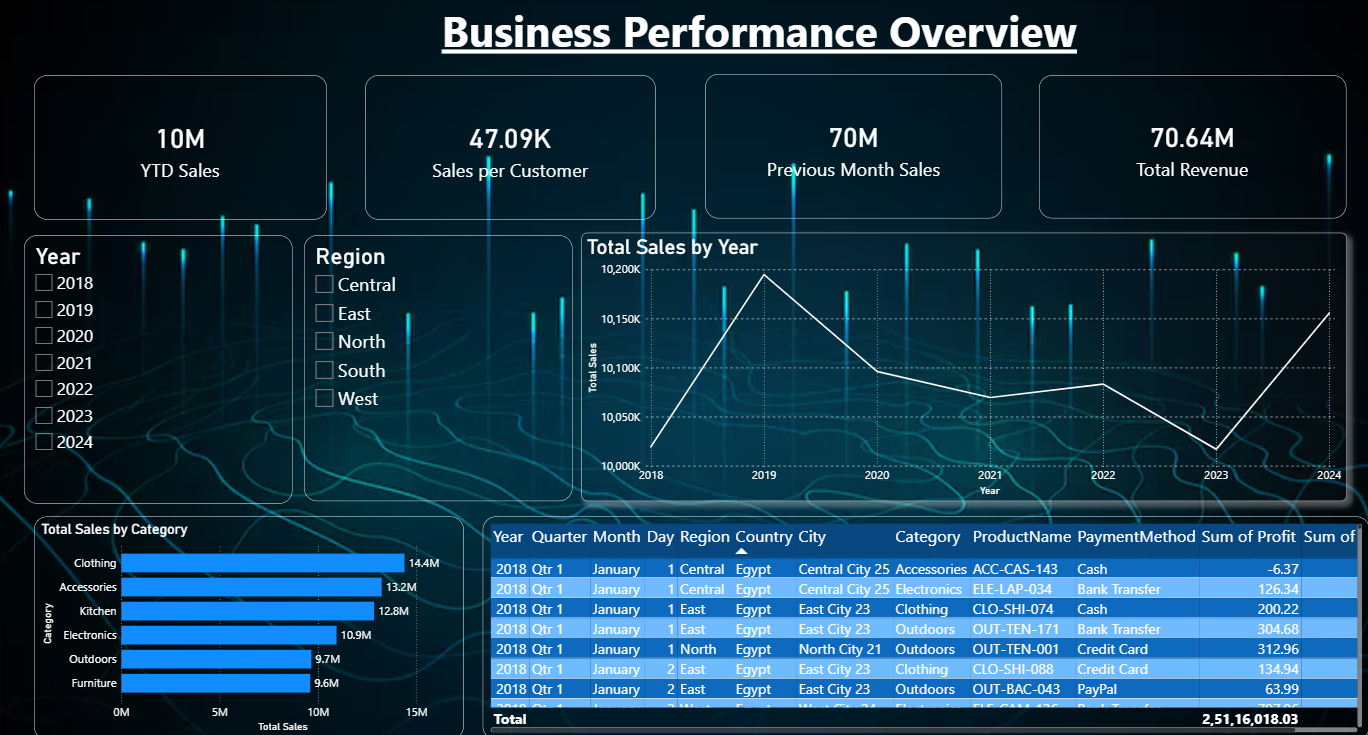

The dashboard page shown, as its layout file describes it:
{"tool":"powerbi","page":{"name":"Page 1","canvas":[2600,1400],"ordinal":0},"visuals":[{"type":"card","fields":{"Values":["DimCustomer.Total Revenue"]},"box":[1975.6,143.9,580.5,270.7],"z":0},{"type":"card","fields":{"Values":["DimCustomer.Previous Month Sales"]},"box":[1343.9,141.5,561,273.2],"z":1000},{"type":"card","fields":{"Values":["DimCustomer.Sales per Customer"]},"box":[702.4,143.9,548.8,273.2],"z":2000},{"type":"textbox","box":[839.8,0,1252.6,143.2],"z":3000},{"type":"slicer","fields":{"Values":["DimDate.Year"]},"box":[56.1,446.3,507.3,507.3],"z":4000},{"type":"card","fields":{"Values":["DimCustomer.YTD Sales"]},"box":[75.6,143.9,553.7,273.2],"z":5000},{"type":"lineChart","fields":{"Category":["DimDate.Date.Variation.Date Hierarchy.Year","DimDate.Date.Variation.Date Hierarchy.Quarter","DimDate.Date.Variation.Date Hierarchy.Month","DimDate.Date.Variation.Date Hierarchy.Day"],"Y":["DimCustomer.Total Sales"]},"box":[1109.8,441.5,1446.3,507.3],"z":6000},{"type":"clusteredBarChart","fields":{"Category":["DimProduct.Category"],"Y":["DimCustomer.Total Sales"]},"box":[75.6,978,812.2,422],"z":7000},{"type":"slicer","fields":{"Values":["DimGeography.Region"]},"box":[585.4,446.3,507.3,502.4],"z":8000},{"type":"tableEx","fields":{"Values":["DimDate.Date.Variation.Date Hierarchy.Year","DimDate.Date.Variation.Date Hierarchy.Quarter","DimDate.Date.Variation.Date Hierarchy.Month","DimDate.Date.Variation.Date Hierarchy.Day","DimGeography.Region","DimGeography.Country","DimGeography.City","DimProduct.Category","DimProduct.ProductName","FactSales.PaymentMethod","Sum(FactSales.Profit)","Sum(FactSales.Quantity)"]},"box":[924.4,978,1675.6,422],"z":9000}]}

Visuals, with their boxes in screenshot pixels (x1, y1, x2, y2), scaled from the page's 2600x1400 canvas onto the 1368x735 screenshot:
card - DimCustomer.Total Revenue: bbox=(1039, 76, 1345, 218)
card - DimCustomer.Previous Month Sales: bbox=(707, 74, 1002, 218)
card - DimCustomer.Sales per Customer: bbox=(370, 76, 658, 219)
textbox: bbox=(442, 0, 1101, 75)
slicer - DimDate.Year: bbox=(30, 234, 296, 501)
card - DimCustomer.YTD Sales: bbox=(40, 76, 331, 219)
lineChart - DimDate.Date.Variation.Date Hierarchy.Year x DimDate.Date.Variation.Date Hierarchy.Quarter: bbox=(584, 232, 1345, 498)
clusteredBarChart - DimProduct.Category x DimCustomer.Total Sales: bbox=(40, 513, 467, 734)
slicer - DimGeography.Region: bbox=(308, 234, 575, 498)
tableEx - DimDate.Date.Variation.Date Hierarchy.Year x DimDate.Date.Variation.Date Hierarchy.Quarter: bbox=(486, 513, 1367, 734)
